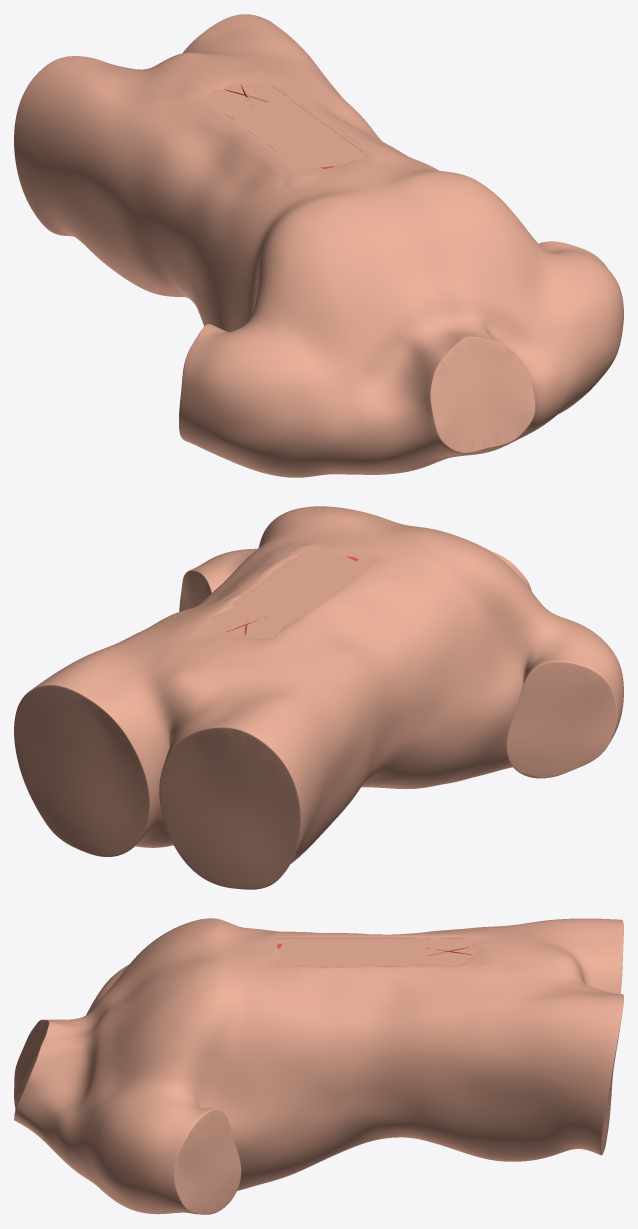
File: herida_3_movimiento.fbx
3 renders of one model, top to bottom at view 1: azimuth 30°, elevation 25°; view 2: azimuth 150°, elevation 25°; view 3: azimuth 270°, elevation 25°, orthographic. The views are drawn at different scales.
Visible parts, largest first — view 1: 11541_maletorso_V1 - copia; view 2: 11541_maletorso_V1 - copia; view 3: 11541_maletorso_V1 - copia.
Boxes of the visible parts, box(x1,y1,x2,y2) form: 11541_maletorso_V1 - copia: box(14, 14, 623, 477); 11541_maletorso_V1 - copia: box(14, 506, 623, 889); 11541_maletorso_V1 - copia: box(14, 918, 623, 1214).
Size of the model in its own units: 5882 by 3049 by 7880.
